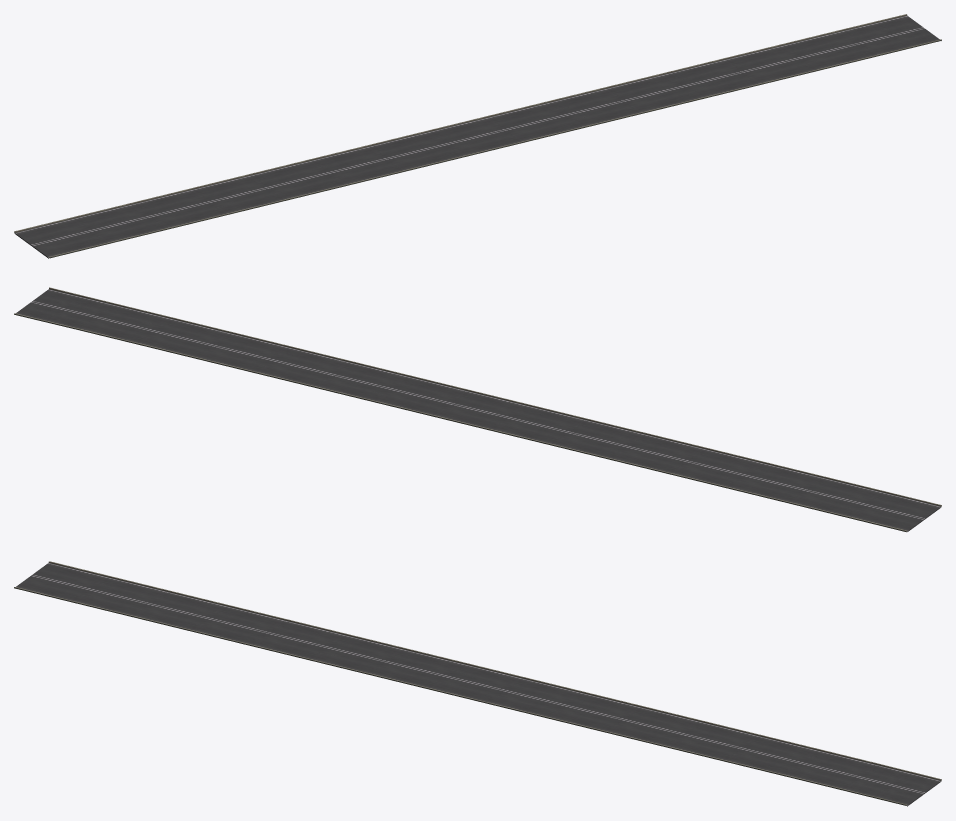
File: roadssfse69.obj
The picture shows the model from 3 angles, top to bottom: view 1: azimuth 30°, elevation 25°; view 2: azimuth 150°, elevation 25°; view 3: azimuth 330°, elevation 25°; orthographic projection.
Parts seen in each view (by area): view 1: roadsSFSE69; view 2: roadsSFSE69; view 3: roadsSFSE69.
Boxes of the visible parts, x1,y1,x2,y2 form: roadsSFSE69: (14, 14, 941, 258); roadsSFSE69: (14, 287, 941, 532); roadsSFSE69: (14, 561, 941, 806).
Bounding box in the file's own units: 151 × 0.3611 × 10.42.
Materials: 2 (2 with a texture image).
